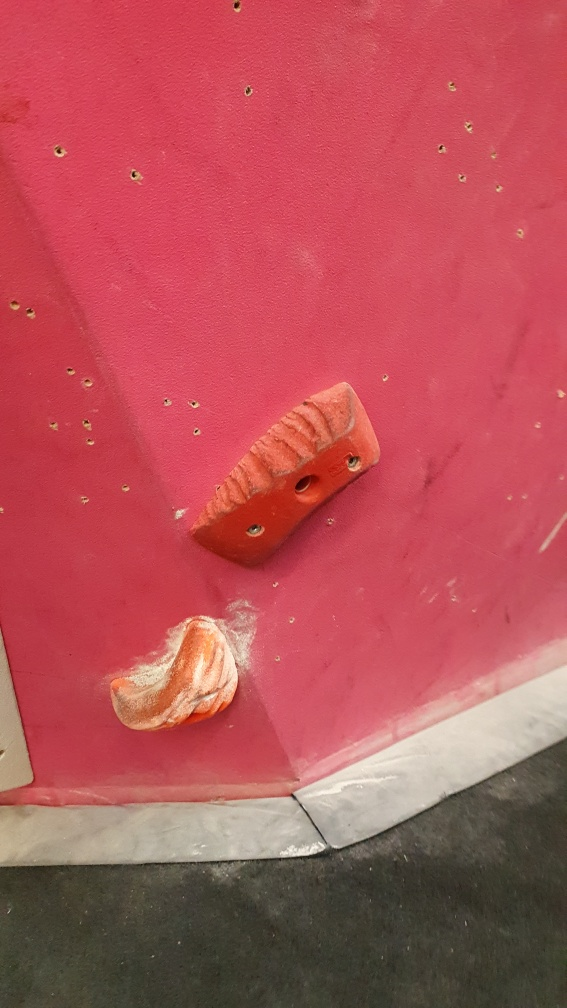Crimp: (187, 379, 385, 575)
Jug: (109, 613, 243, 736)
